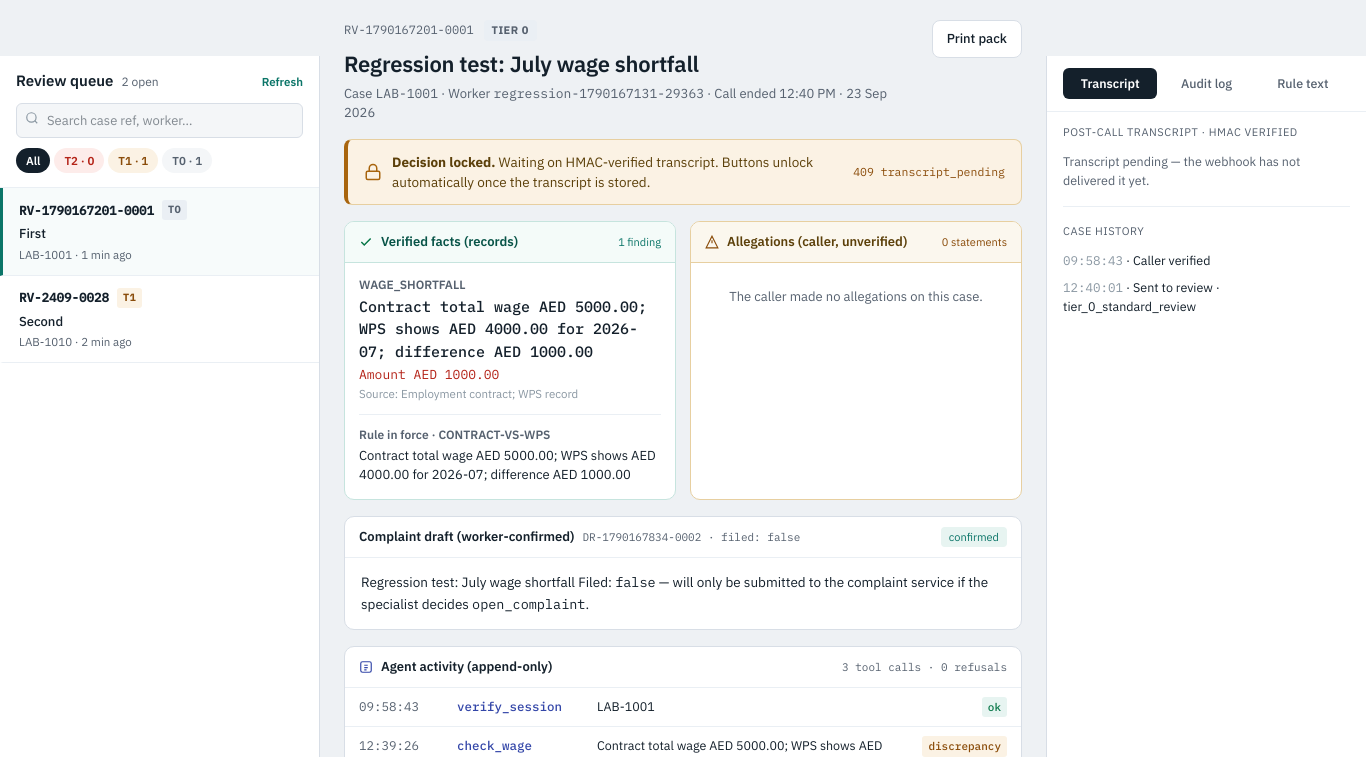
Scenario: CaseReviewScreen — navigation between cases › updates the URL and fetches a new case when a queue item is picked
The width and height of the screenshot is (1366, 757).
Expected: the heading "Regression test: July wage shortfall" is shown, [344,48,699,78]
Click the text "RV-2409-0028" at point(64, 298), box [19,288,109,307]
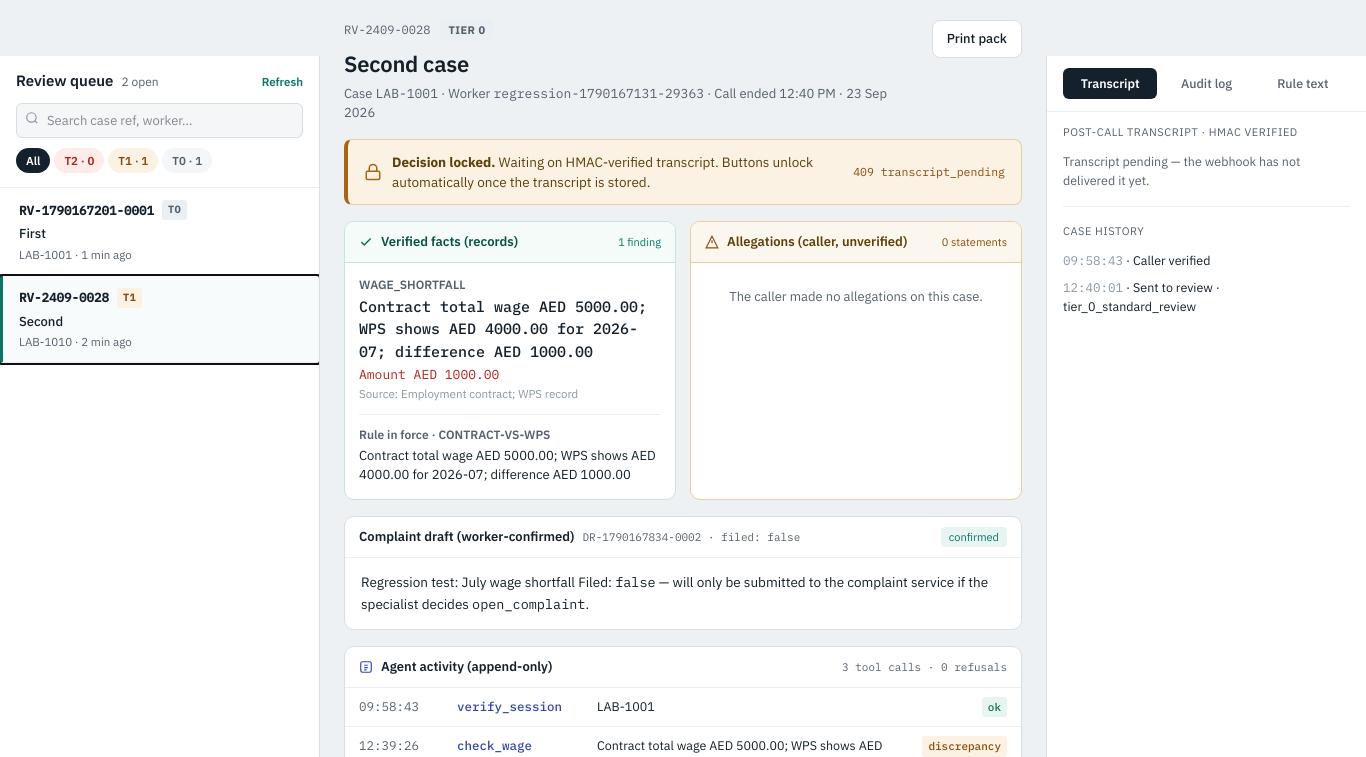
Result: the heading "Second case" is shown at [344,48,469,78]
